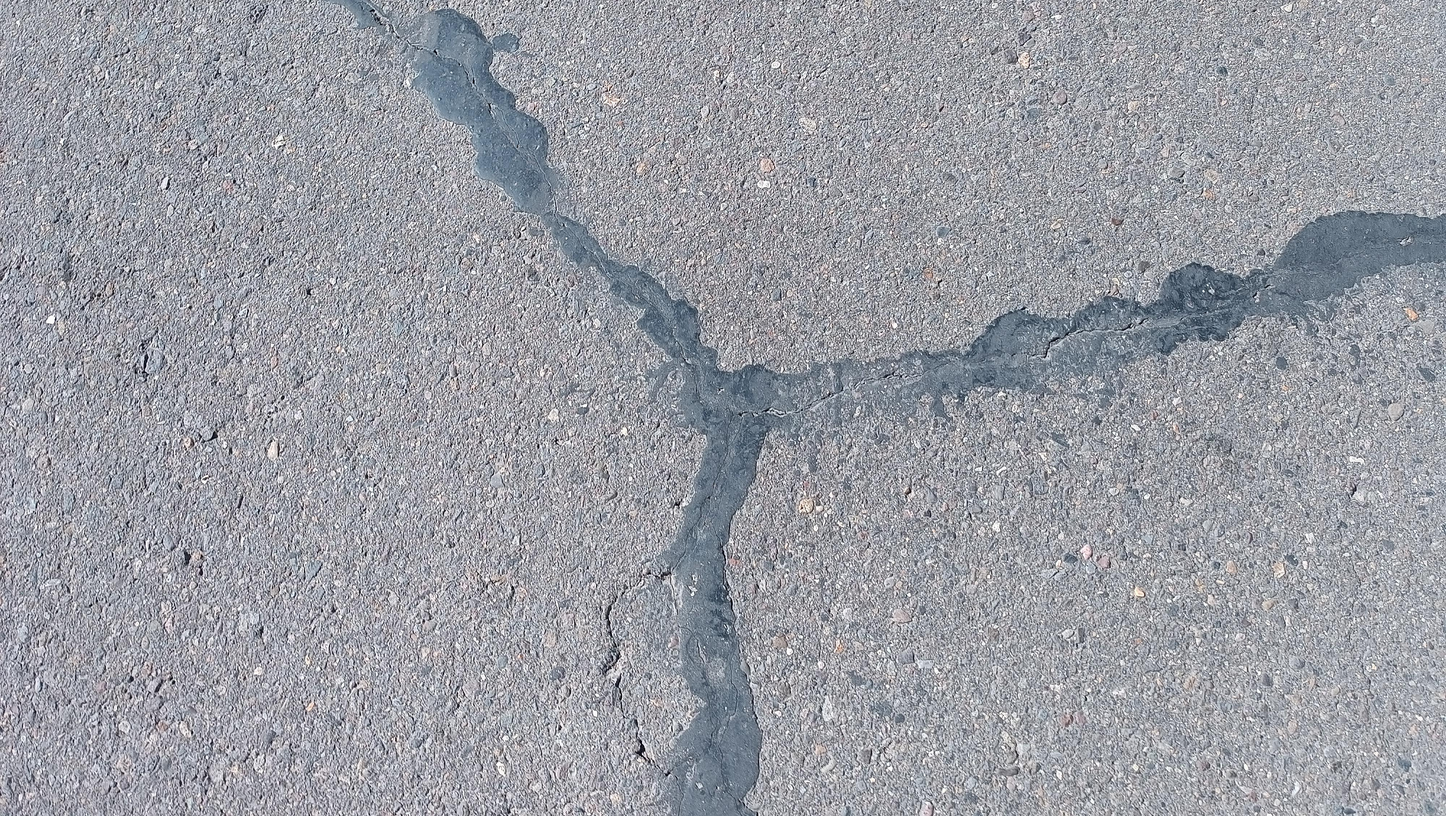GRIETA: (370, 8, 495, 124), (750, 362, 950, 418), (614, 672, 685, 816), (1031, 316, 1153, 360), (602, 591, 627, 676), (719, 655, 739, 745), (718, 745, 743, 816)
